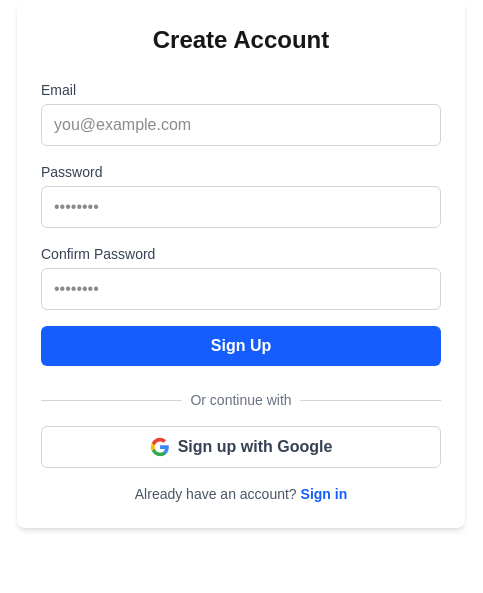
Test: RegisterForm › Password Strength Indicator › should show weak strength for password missing requirements
The width and height of the screenshot is (483, 593).
Type "short" into the password field labelled "Password" at (241, 207), box [41,186,441,228]
Wait 300 ms
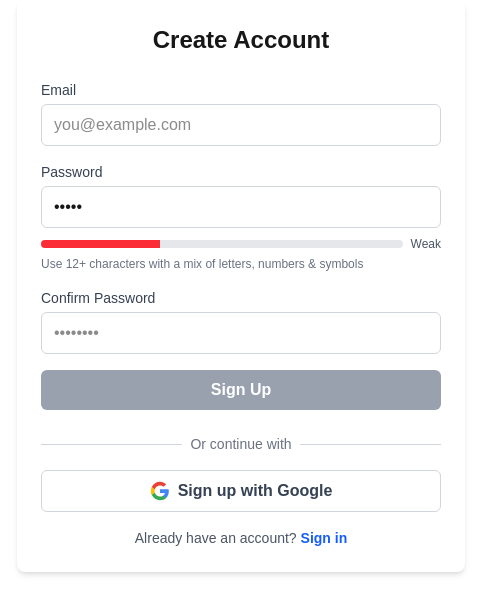
Expected: the text "Weak" is shown, [410,236,441,252]
